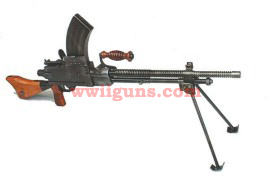rifle: (7, 13, 247, 117)
